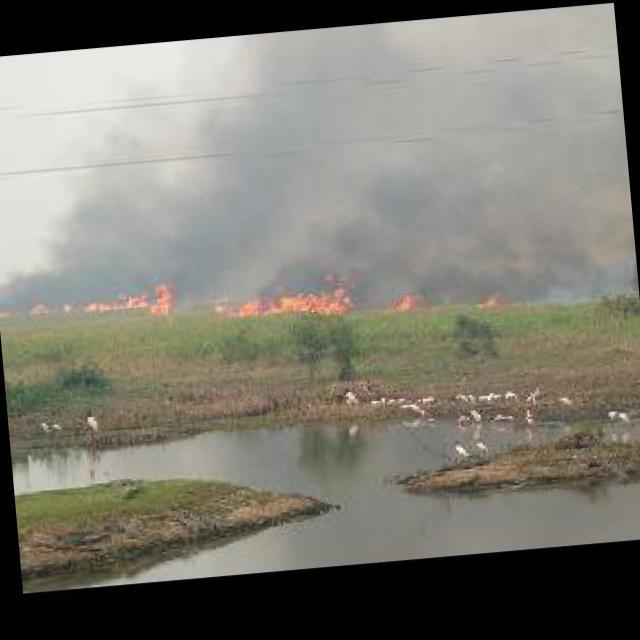fire: (215, 278, 362, 320), (85, 278, 182, 324), (472, 288, 506, 309), (395, 291, 423, 311), (61, 296, 78, 312), (0, 299, 17, 314), (30, 304, 49, 316)
smoke: (47, 38, 635, 302)
